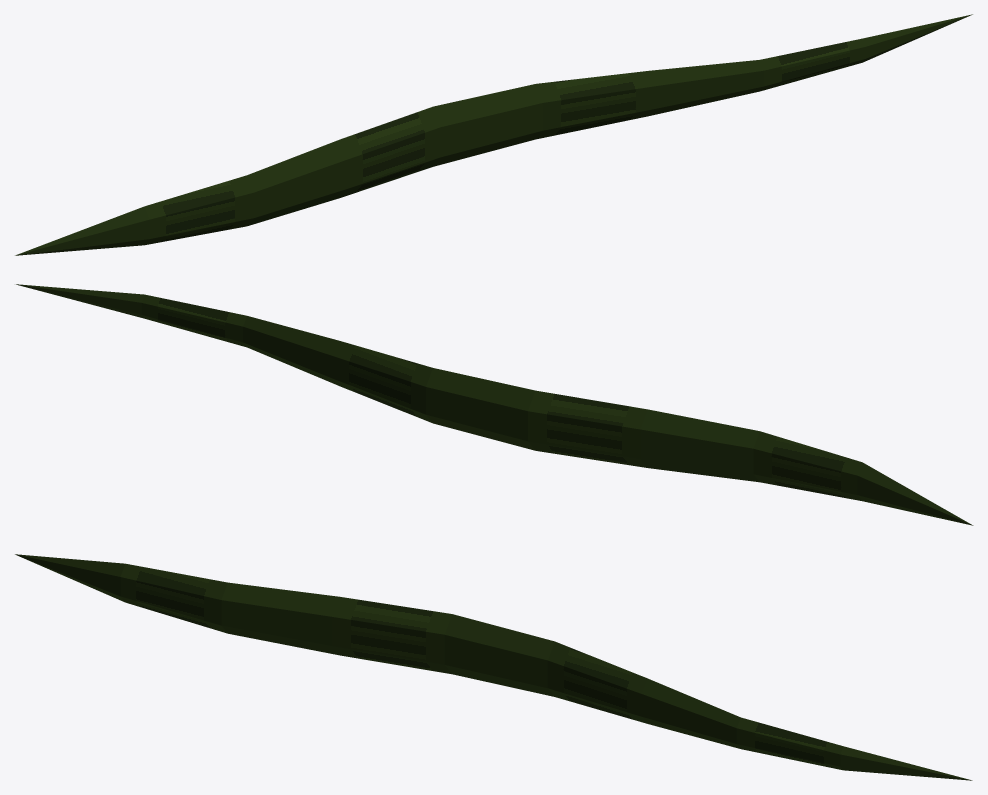
Rendered from vibora.glb.
3 views of the same model, one above another, from view 1: azimuth 30°, elevation 25°; view 2: azimuth 150°, elevation 25°; view 3: azimuth 330°, elevation 25° (orthographic).
Parts seen in each view (by area): view 1: cuerpo; view 2: cuerpo; view 3: cuerpo.
Part boxes in pixels (left/top/right/bottom): cuerpo: left=15, top=14, right=972, bottom=255; cuerpo: left=16, top=284, right=973, bottom=525; cuerpo: left=15, top=554, right=972, bottom=780.
Size of the model in its own units: 1 by 0.06 by 0.06.
1 material, 1 textured.
